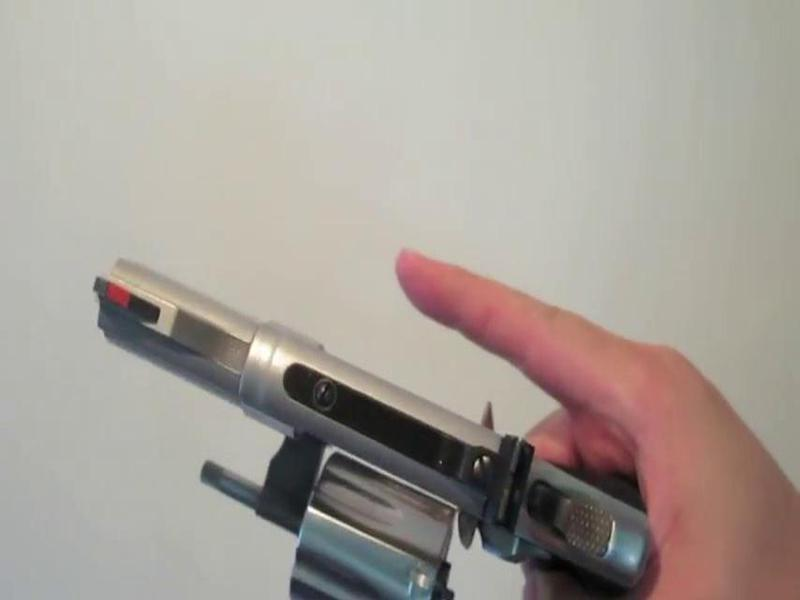Revolver: (78, 250, 710, 585)
